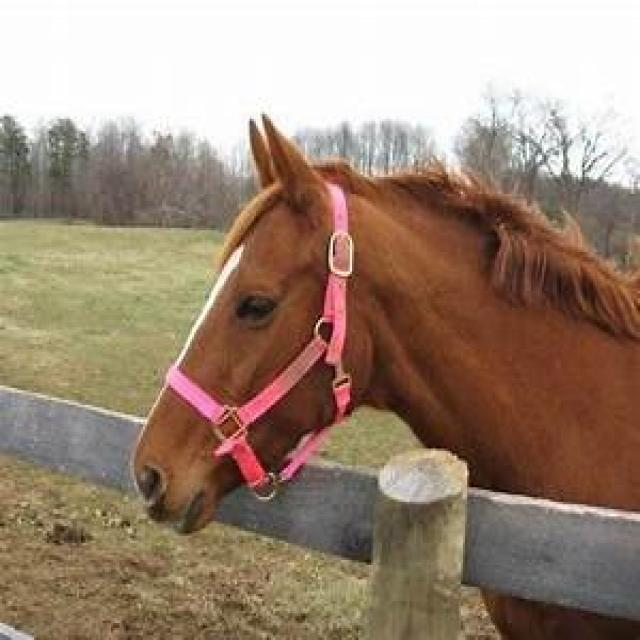horse: (130, 119, 640, 536)
